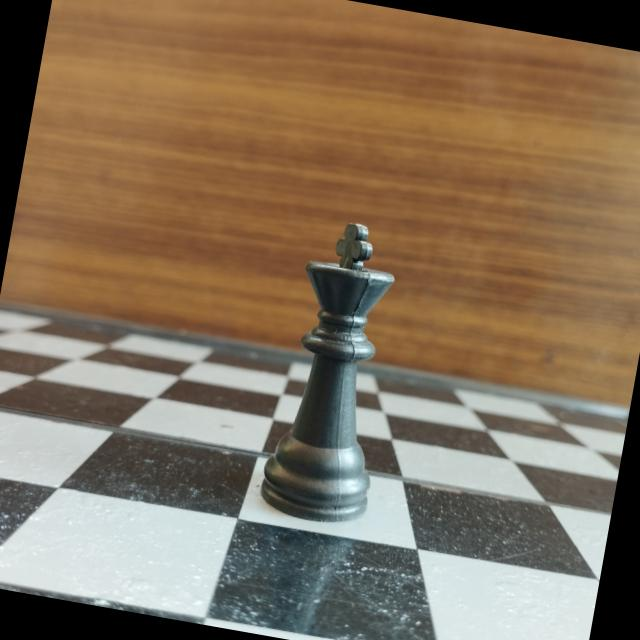Black King: (247, 202, 428, 534)
